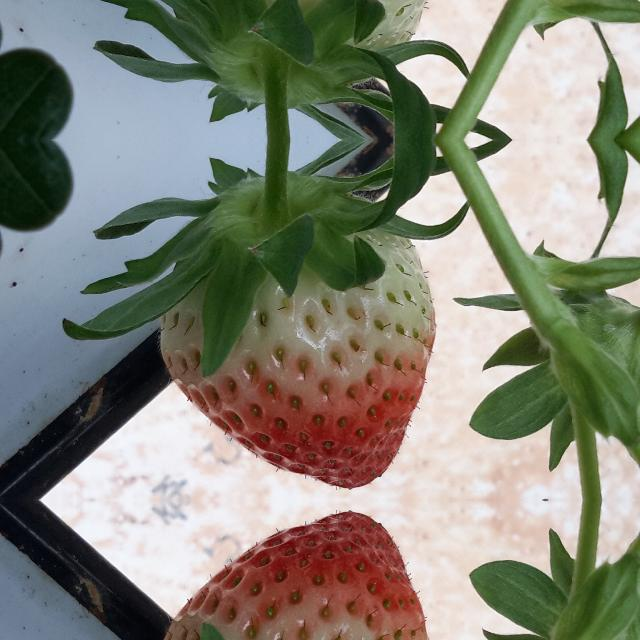Health_75: (158, 225, 434, 490), (158, 510, 434, 640), (158, 0, 434, 55)
